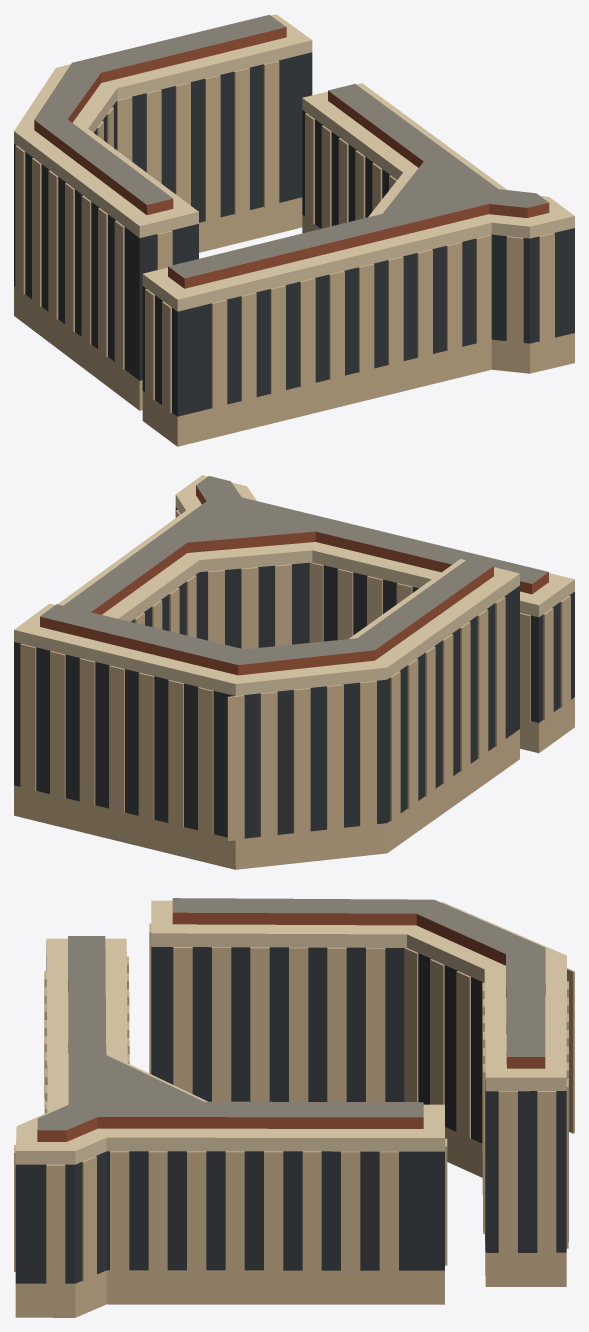
Rendered from wyndham_grand_desert_r6138879.glb.
3 views of the same model, one above another, from view 1: azimuth 30°, elevation 25°; view 2: azimuth 150°, elevation 25°; view 3: azimuth 270°, elevation 25° (orthographic). The views are drawn at different scales.
Visible parts, largest first — view 1: Tower; view 2: Tower; view 3: Tower.
Part boxes in pixels (x1,y1,x2,y2): Tower: (14,14,574,446); Tower: (14,475,574,869); Tower: (14,898,574,1317).
Size of the model in its own units: 119 by 57 by 131.
